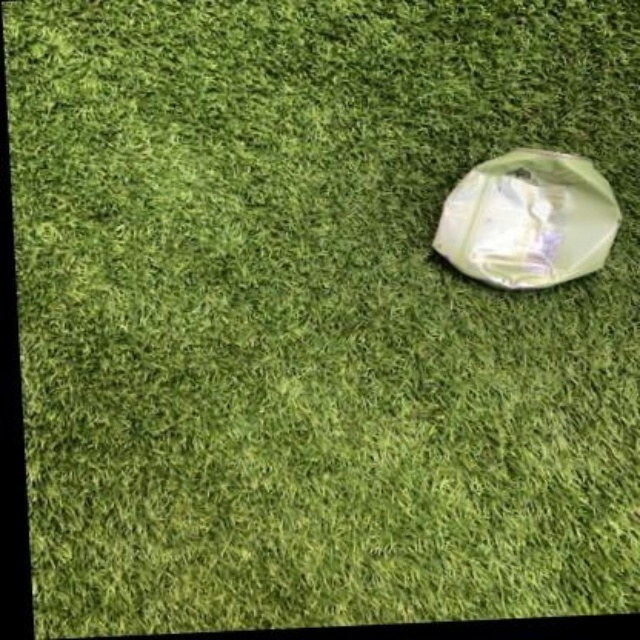trash: (432, 149, 620, 288)
